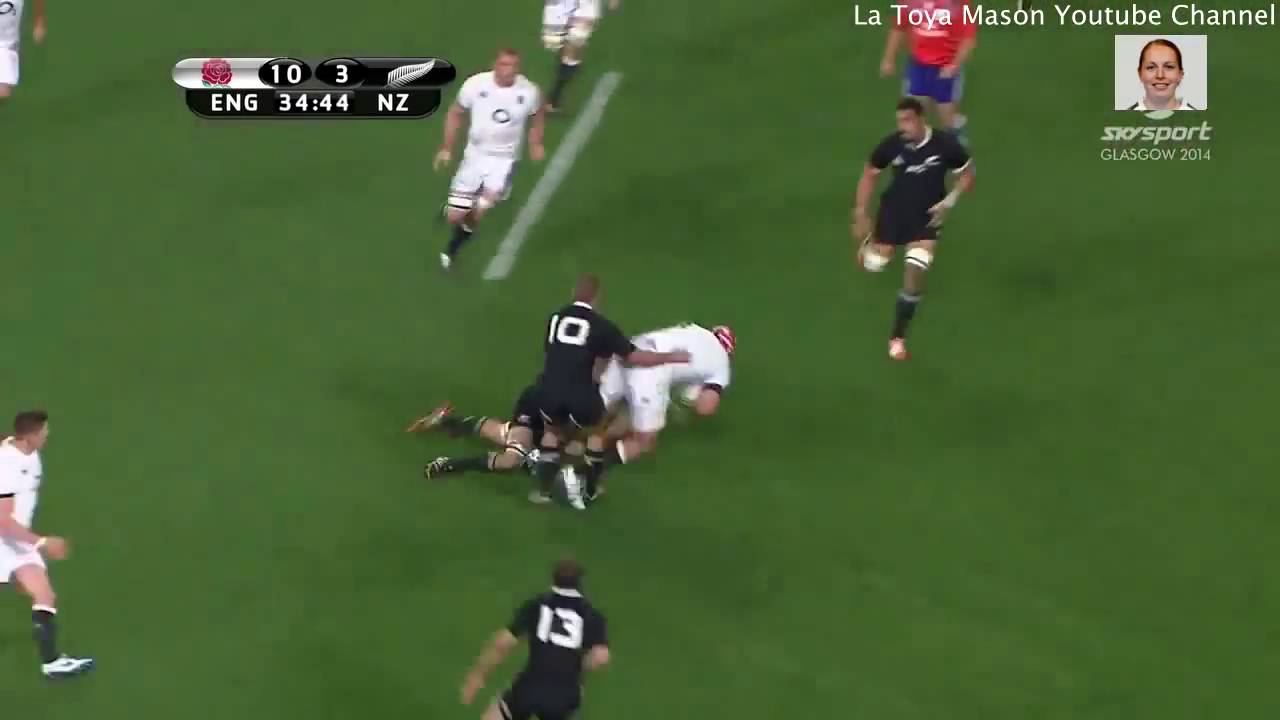player: (838, 92, 980, 366), (561, 316, 741, 513), (421, 48, 554, 276), (458, 558, 625, 720), (1, 412, 97, 682), (537, 269, 624, 514), (409, 380, 542, 493)
